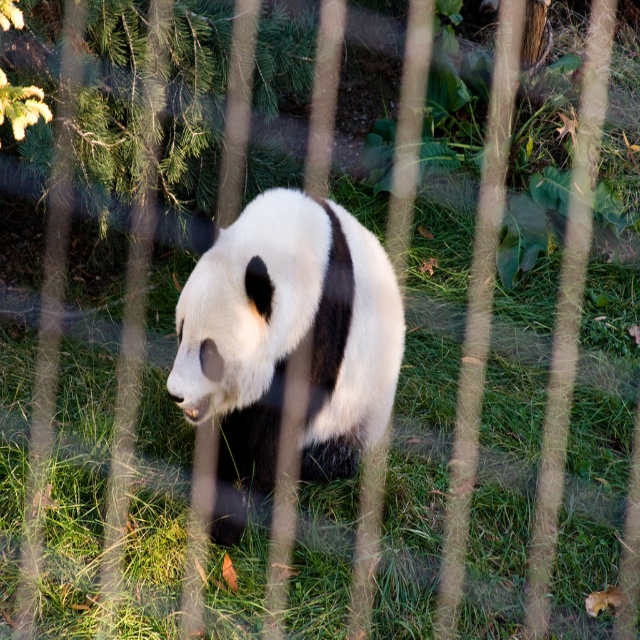Panda: (166, 186, 409, 548)
